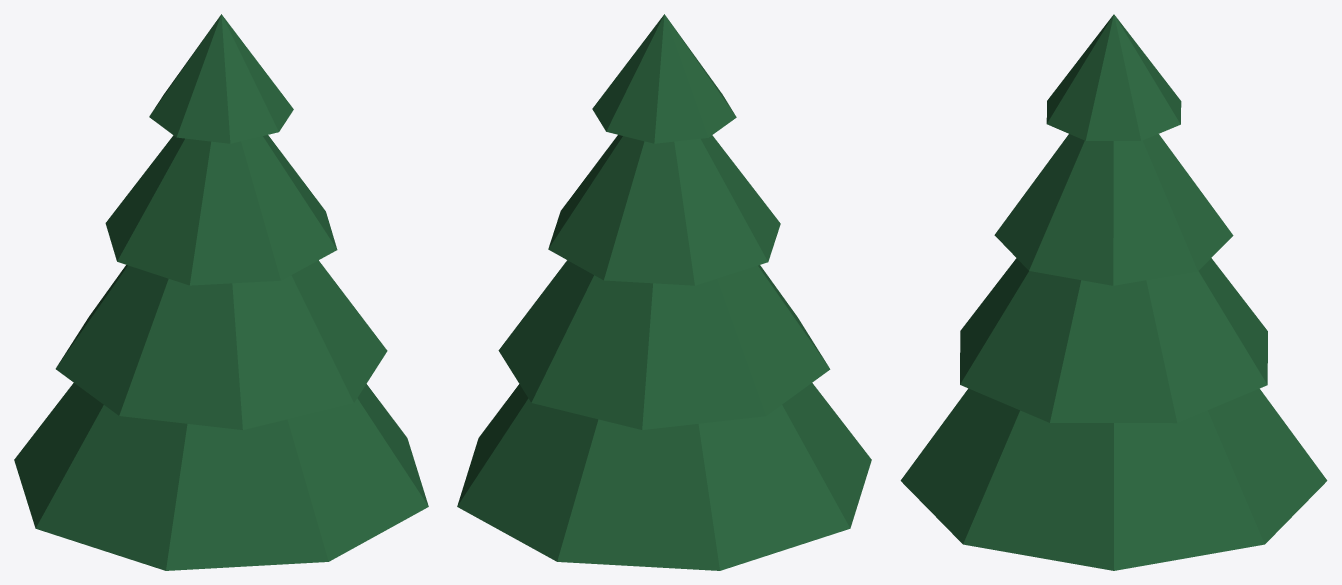
The model's file is pine_small.fbx.
3 renders of one model, left to right at view 1: azimuth 30°, elevation 25°; view 2: azimuth 150°, elevation 25°; view 3: azimuth 270°, elevation 25°, orthographic.
Visible parts, largest first — view 1: PineSmall; view 2: PineSmall; view 3: PineSmall.
Boxes of the visible parts, x1,y1,x2,y2 form: PineSmall: (14, 14, 428, 570); PineSmall: (457, 14, 871, 570); PineSmall: (900, 14, 1327, 570).
Bounding box in the file's own units: 2.3 × 2.77 × 2.3.
